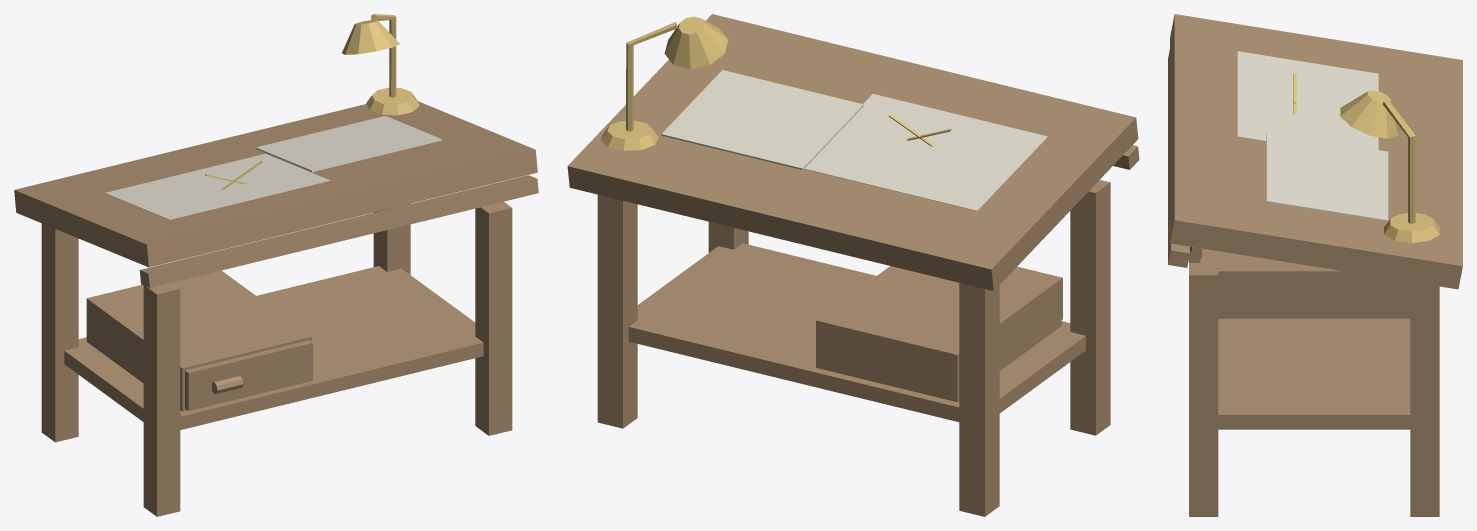
Rendered from steampunk-airship-dock-and-workshop-chart-table-6d4aed38.glb.
3 views of the same model, side by side, from view 1: azimuth 30°, elevation 25°; view 2: azimuth 150°, elevation 25°; view 3: azimuth 270°, elevation 25° (orthographic). The views are drawn at different scales.
Parts seen in each view (by area): view 1: chart-table, bench-drawer; view 2: chart-table; view 3: chart-table.
Part boxes in pixels (<box>): chart-table: <box>14,14,538,516</box>; bench-drawer: <box>185,340,312,410</box>; chart-table: <box>567,14,1139,516</box>; chart-table: <box>1168,14,1462,516</box>.
Bounding box in the file's own units: 1.5 × 1.33 × 0.9067.
